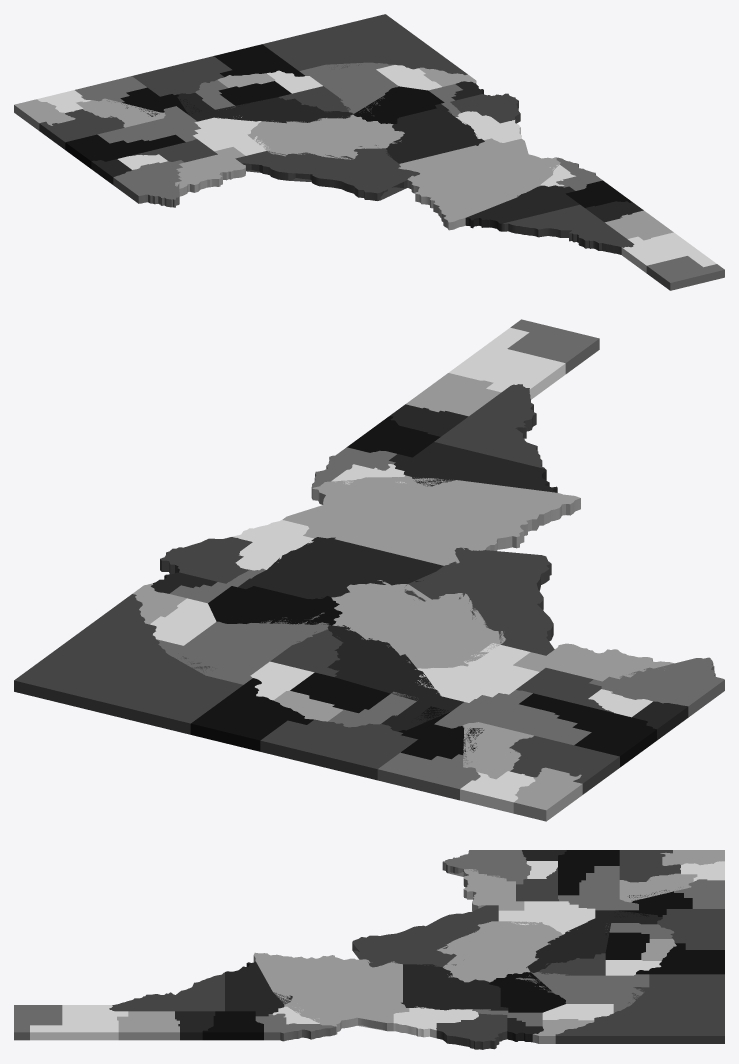
The model's file is Idaho_Counties_3D.fbx.
The picture shows the model from 3 angles, top to bottom: view 1: azimuth 30°, elevation 25°; view 2: azimuth 150°, elevation 25°; view 3: azimuth 270°, elevation 25°; orthographic projection. The views are drawn at different scales.
Visible parts, largest first — view 1: ID_Idaho_County_3D, ID_Owyhee_County_3D, ID_Lemhi_County_3D, ID_Custer_County_3D, ID_Valley_County_3D, ID_Shoshone_County_3D, ID_Blaine_County_3D, ID_Elmore_County_3D, ID_Clearwater_County_3D, ID_Fremont_County_3D, ID_Cassia_County_3D, ID_Clark_County_3D (+30 smaller); view 2: ID_Idaho_County_3D, ID_Owyhee_County_3D, ID_Custer_County_3D, ID_Lemhi_County_3D, ID_Valley_County_3D, ID_Cassia_County_3D, ID_Blaine_County_3D, ID_Elmore_County_3D, ID_Shoshone_County_3D, ID_Clearwater_County_3D, ID_Twin_Falls_County_3D, ID_Fremont_County_3D (+30 smaller); view 3: ID_Idaho_County_3D, ID_Owyhee_County_3D, ID_Custer_County_3D, ID_Lemhi_County_3D, ID_Valley_County_3D, ID_Blaine_County_3D, ID_Elmore_County_3D, ID_Bonner_County_3D, ID_Shoshone_County_3D, ID_Clearwater_County_3D, ID_Cassia_County_3D, ID_Fremont_County_3D (+32 smaller).
Boxes of the visible parts, box(x1,y1,x2,y2) form: ID_Idaho_County_3D: box(398, 138, 560, 230); ID_Owyhee_County_3D: box(262, 14, 467, 74); ID_Lemhi_County_3D: box(235, 145, 419, 200); ID_Custer_County_3D: box(247, 114, 404, 159); ID_Valley_County_3D: box(386, 103, 484, 163); ID_Shoshone_County_3D: box(502, 204, 634, 254); ID_Blaine_County_3D: box(177, 92, 353, 123); ID_Elmore_County_3D: box(299, 62, 398, 115); ID_Clearwater_County_3D: box(465, 185, 579, 231); ID_Fremont_County_3D: box(113, 160, 184, 207); ID_Cassia_County_3D: box(132, 56, 231, 96); ID_Clark_County_3D: box(175, 147, 245, 196); ID_Idaho_County_3D: box(282, 475, 580, 565); ID_Owyhee_County_3D: box(14, 594, 242, 734); ID_Custer_County_3D: box(331, 580, 505, 668); ID_Lemhi_County_3D: box(404, 547, 554, 655); ID_Valley_County_3D: box(238, 537, 443, 599); ID_Cassia_County_3D: box(260, 719, 417, 780); ID_Blaine_County_3D: box(327, 625, 463, 731); ID_Elmore_County_3D: box(156, 612, 330, 684); ID_Shoshone_County_3D: box(434, 384, 544, 468); ID_Clearwater_County_3D: box(389, 442, 557, 492); ID_Twin_Falls_County_3D: box(190, 678, 313, 751); ID_Fremont_County_3D: box(589, 657, 724, 717); ID_Idaho_County_3D: box(253, 952, 409, 1034); ID_Owyhee_County_3D: box(555, 974, 724, 1043); ID_Custer_County_3D: box(437, 921, 562, 982); ID_Lemhi_County_3D: box(352, 905, 498, 967); ID_Valley_County_3D: box(401, 964, 508, 1010); ID_Blaine_County_3D: box(526, 910, 662, 972); ID_Elmore_County_3D: box(516, 972, 649, 1012); ID_Bonner_County_3D: box(30, 1005, 128, 1040); ID_Shoshone_County_3D: box(109, 972, 224, 1011); ID_Clearwater_County_3D: box(225, 961, 292, 1016); ID_Cassia_County_3D: box(657, 909, 724, 949); ID_Fremont_County_3D: box(442, 850, 531, 884).
Bounding box in the file's own units: 510 × 10 × 799.
